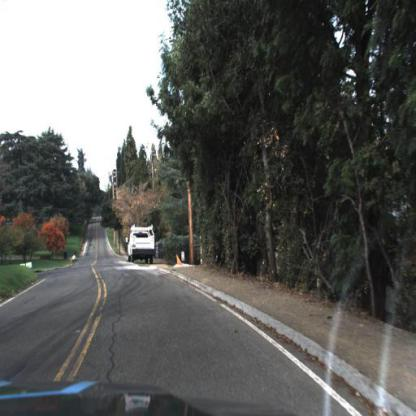car: (120, 220, 154, 267), (124, 223, 157, 265)
